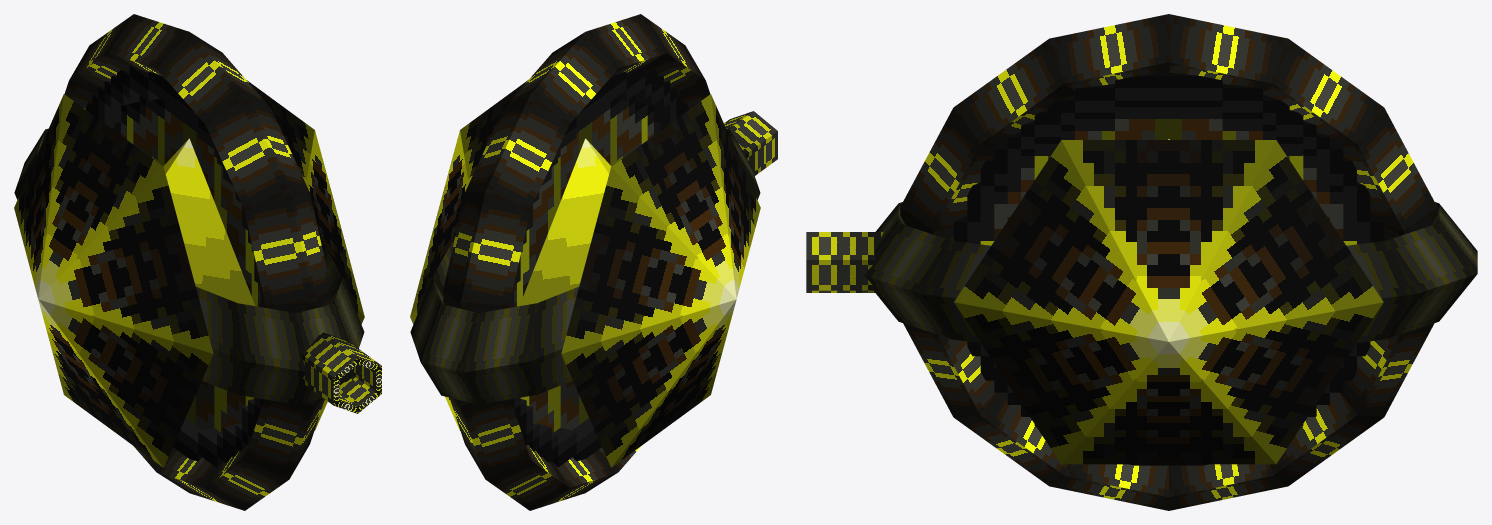
File: Shooter3DModel.fbx
3 views of the same model, side by side, from view 1: azimuth 30°, elevation 25°; view 2: azimuth 150°, elevation 25°; view 3: azimuth 270°, elevation 25° (orthographic). The views are drawn at different scales.
Visible parts, largest first — view 1: cone, torus, torus_1, sphere, cone_1, tube, 3Shooter3DModel素材_0, 3Shooter3DModel素材_1, 3Shooter3DModel素材_2, 3Shooter3DModel素材_3, 4Shooter3DModel素材_0, 4Shooter3DModel素材_37 (+4 smaller); view 2: cone, torus, torus_1, sphere, cone_1, 3Shooter3DModel素材_0, tube, 3Shooter3DModel素材_2, 3Shooter3DModel素材_1, 3Shooter3DModel素材_4, 4Shooter3DModel素材_0, 4Shooter3DModel素材_37 (+5 smaller); view 3: cone_1, torus, torus_1, 3Shooter3DModel素材_0, tube, 4Shooter3DModel素材_0, 3Shooter3DModel素材_2, 3Shooter3DModel素材_1, 4Shooter3DModel素材_2, 4Shooter3DModel素材_1, 4Shooter3DModel素材_17, 4Shooter3DModel素材_18 (+2 smaller).
Part boxes in pixels (left/top/right/bottom): cone: left=14, top=94, right=213, bottom=467; torus: left=64, top=14, right=331, bottom=510; torus_1: left=14, top=128, right=364, bottom=404; sphere: left=163, top=138, right=255, bottom=305; cone_1: left=246, top=80, right=364, bottom=430; tube: left=300, top=331, right=381, bottom=413; 3Shooter3DModel素材_0: left=164, top=102, right=214, bottom=430; 3Shooter3DModel素材_1: left=214, top=150, right=232, bottom=432; 3Shooter3DModel素材_2: left=145, top=98, right=164, bottom=166; 3Shooter3DModel素材_3: left=233, top=186, right=245, bottom=424; 4Shooter3DModel素材_0: left=148, top=71, right=198, bottom=125; 4Shooter3DModel素材_37: left=173, top=418, right=202, bottom=461; cone: left=561, top=94, right=760, bottom=467; torus: left=443, top=14, right=710, bottom=510; torus_1: left=410, top=128, right=760, bottom=404; sphere: left=519, top=138, right=611, bottom=305; cone_1: left=410, top=80, right=527, bottom=430; 3Shooter3DModel素材_0: left=560, top=102, right=610, bottom=430; tube: left=724, top=111, right=777, bottom=175; 3Shooter3DModel素材_2: left=541, top=150, right=560, bottom=432; 3Shooter3DModel素材_1: left=610, top=98, right=628, bottom=166; 3Shooter3DModel素材_4: left=529, top=186, right=541, bottom=424; 4Shooter3DModel素材_0: left=576, top=71, right=626, bottom=125; 4Shooter3DModel素材_37: left=572, top=418, right=601, bottom=461; cone_1: left=954, top=140, right=1383, bottom=464; torus: left=900, top=14, right=1437, bottom=510; torus_1: left=864, top=202, right=1477, bottom=342; 3Shooter3DModel素材_0: left=1115, top=100, right=1222, bottom=139; tube: left=806, top=232, right=883, bottom=292; 4Shooter3DModel素材_0: left=1115, top=72, right=1222, bottom=100; 3Shooter3DModel素材_2: left=1222, top=112, right=1262, bottom=139; 3Shooter3DModel素材_1: left=1075, top=112, right=1114, bottom=139; 4Shooter3DModel素材_2: left=1222, top=84, right=1262, bottom=112; 4Shooter3DModel素材_1: left=1075, top=84, right=1114, bottom=112; 4Shooter3DModel素材_17: left=967, top=182, right=980, bottom=356; 4Shooter3DModel素材_18: left=1357, top=182, right=1370, bottom=356.
Bounding box in the file's own units: 87.5 × 128 × 156.
6 materials, 6 textured.
